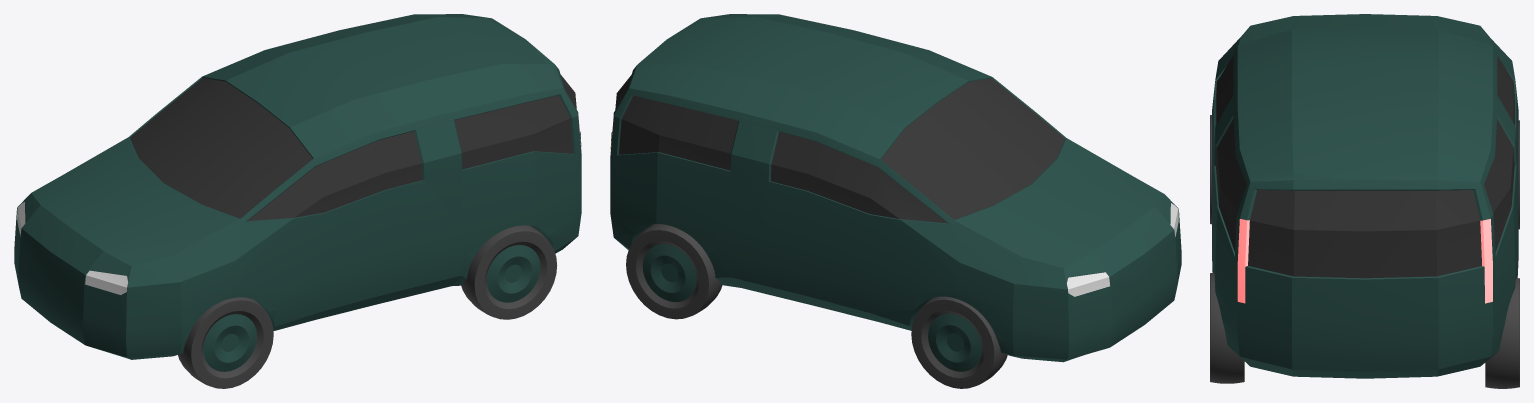
The model's file is bil1.fbx.
3 renders of one model, left to right at view 1: azimuth 30°, elevation 25°; view 2: azimuth 150°, elevation 25°; view 3: azimuth 270°, elevation 25°, orthographic. The views are drawn at different scales.
Parts seen in each view (by area): view 1: Cube.136; view 2: Cube.136; view 3: Cube.136.
Boxes of the visible parts, left/top/right/bottom form: Cube.136: left=14, top=14, right=581, bottom=388; Cube.136: left=610, top=14, right=1181, bottom=388; Cube.136: left=1210, top=14, right=1519, bottom=388.
Size of the model in its own units: 537 by 233 by 250.
